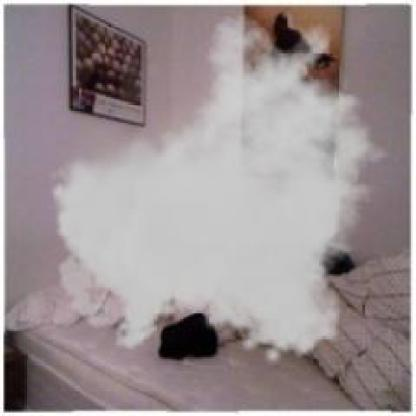Smoke: (48, 14, 401, 366)
